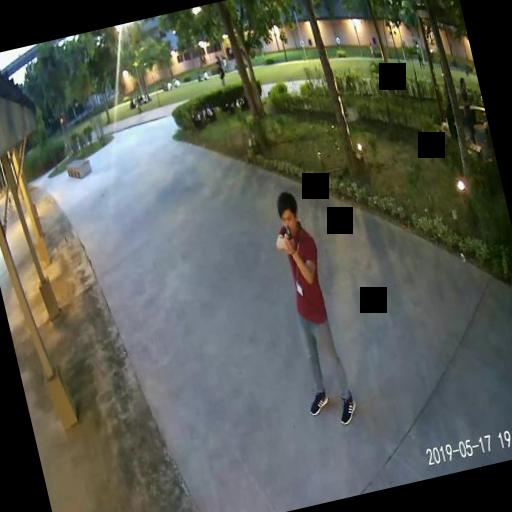Handgun: (282, 222, 296, 250)
